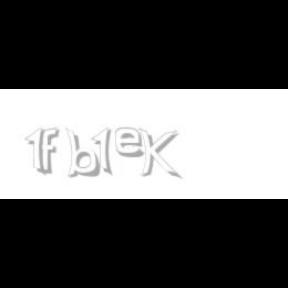1: (24, 128, 46, 176), (91, 128, 113, 176)
K: (138, 128, 178, 180)
b: (65, 128, 103, 178)
e: (115, 128, 148, 158)
f: (39, 128, 63, 174)
